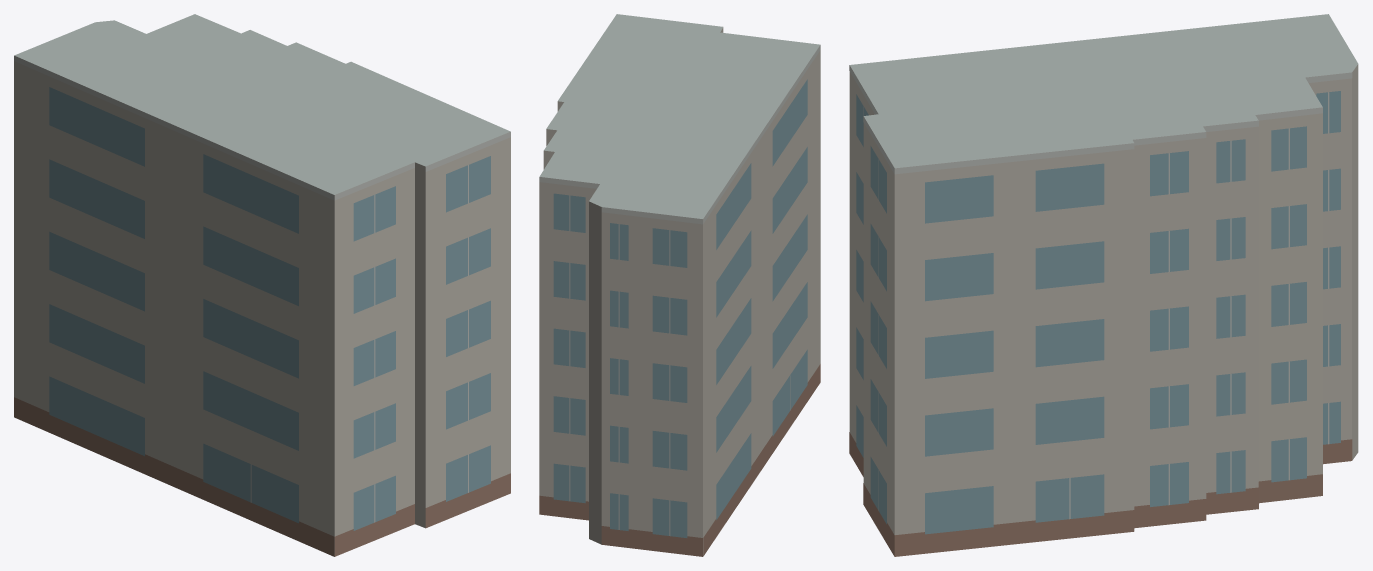
Rendered from survey-upis-32522435.glb.
3 renders of one model, left to right at view 1: azimuth 30°, elevation 25°; view 2: azimuth 150°, elevation 25°; view 3: azimuth 270°, elevation 25°, orthographic. The views are drawn at different scales.
Parts seen in each view (by area): view 1: survey-upis-32522435.tmp; view 2: survey-upis-32522435.tmp; view 3: survey-upis-32522435.tmp.
Boxes of the visible parts, x1=… form: survey-upis-32522435.tmp: x1=14, y1=14, x2=510, y2=556; survey-upis-32522435.tmp: x1=539, y1=14, x2=820, y2=556; survey-upis-32522435.tmp: x1=849, y1=14, x2=1358, y2=556.
Bounding box in the file's own units: 13.47 × 15.8 × 18.76.
